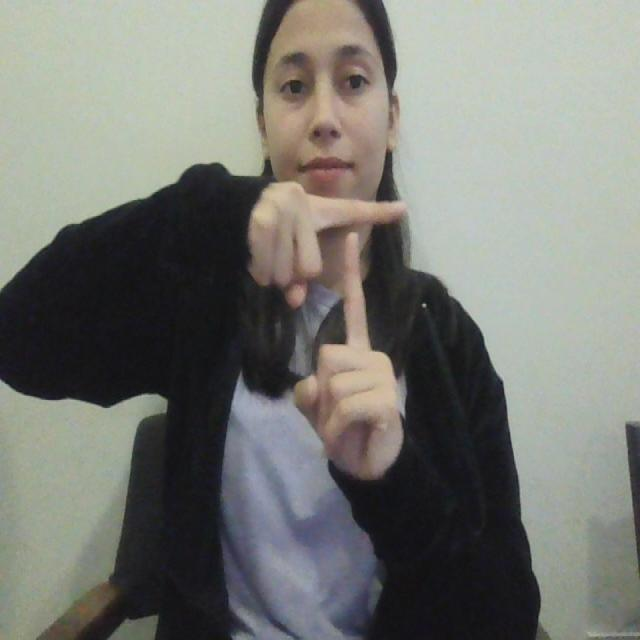Tesekkurler: (302, 182, 413, 374)
